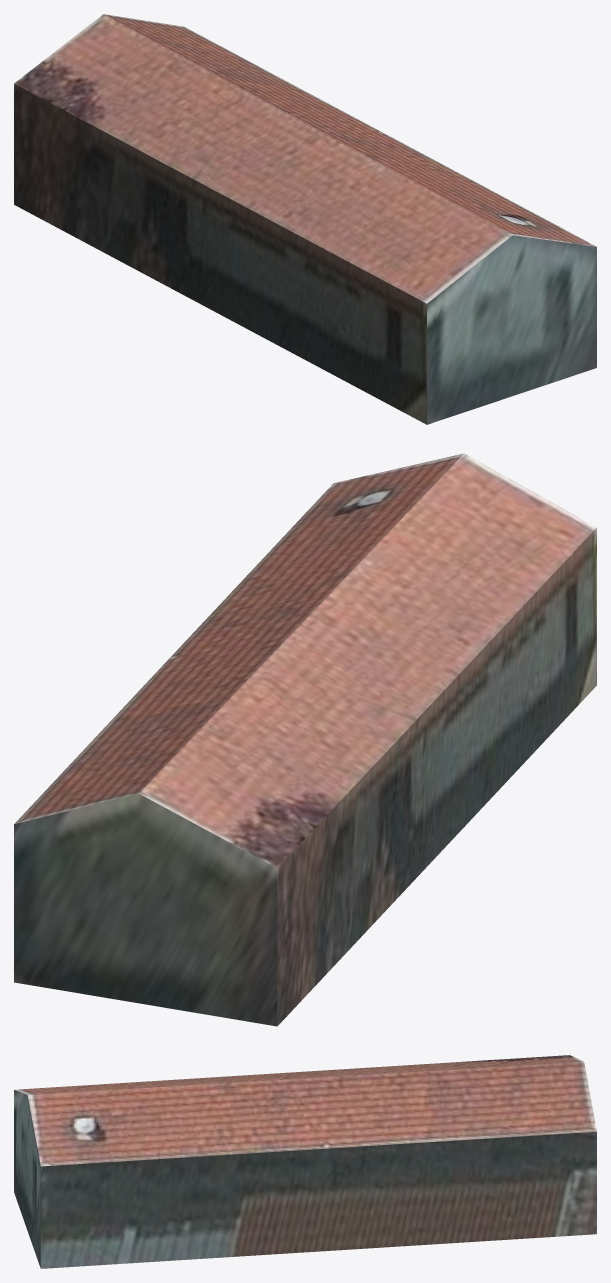
The model's file is LYON_1ER_00066.dae.
3 views of the same model, one above another, from view 1: azimuth 30°, elevation 25°; view 2: azimuth 150°, elevation 25°; view 3: azimuth 270°, elevation 25° (orthographic). The views are drawn at different scales.
Size of the model in its own units: 9.99 by 22.1 by 5.68.
1 material, 1 textured.
